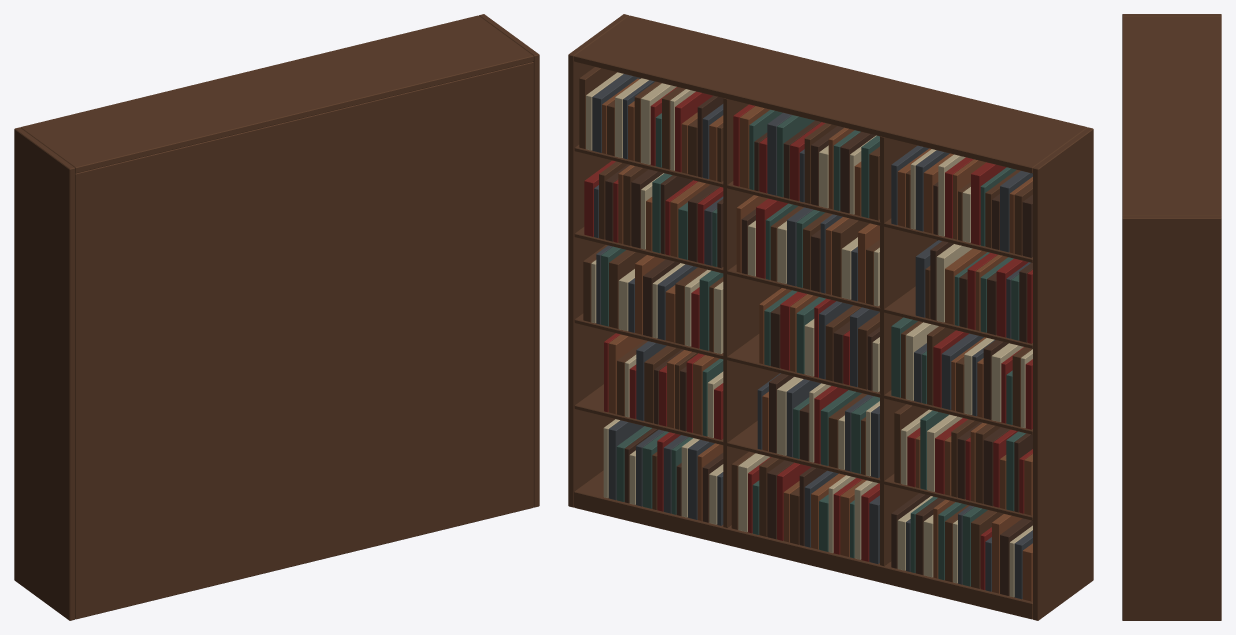
The model's file is prop_bookcase_w240.glb.
The picture shows the model from 3 angles, left to right: view 1: azimuth 30°, elevation 25°; view 2: azimuth 150°, elevation 25°; view 3: azimuth 270°, elevation 25°; orthographic projection. The views are drawn at different scales.
Parts seen in each view (by area): view 1: Bookcase; view 2: Bookcase; view 3: Bookcase.
Boxes of the visible parts, left/top/right/bottom form: Bookcase: left=14, top=14, right=539, bottom=620; Bookcase: left=568, top=14, right=1093, bottom=620; Bookcase: left=1122, top=14, right=1221, bottom=620.
Size of what is drawn, in the model's own units: 2.39 by 2.19 by 0.49.
